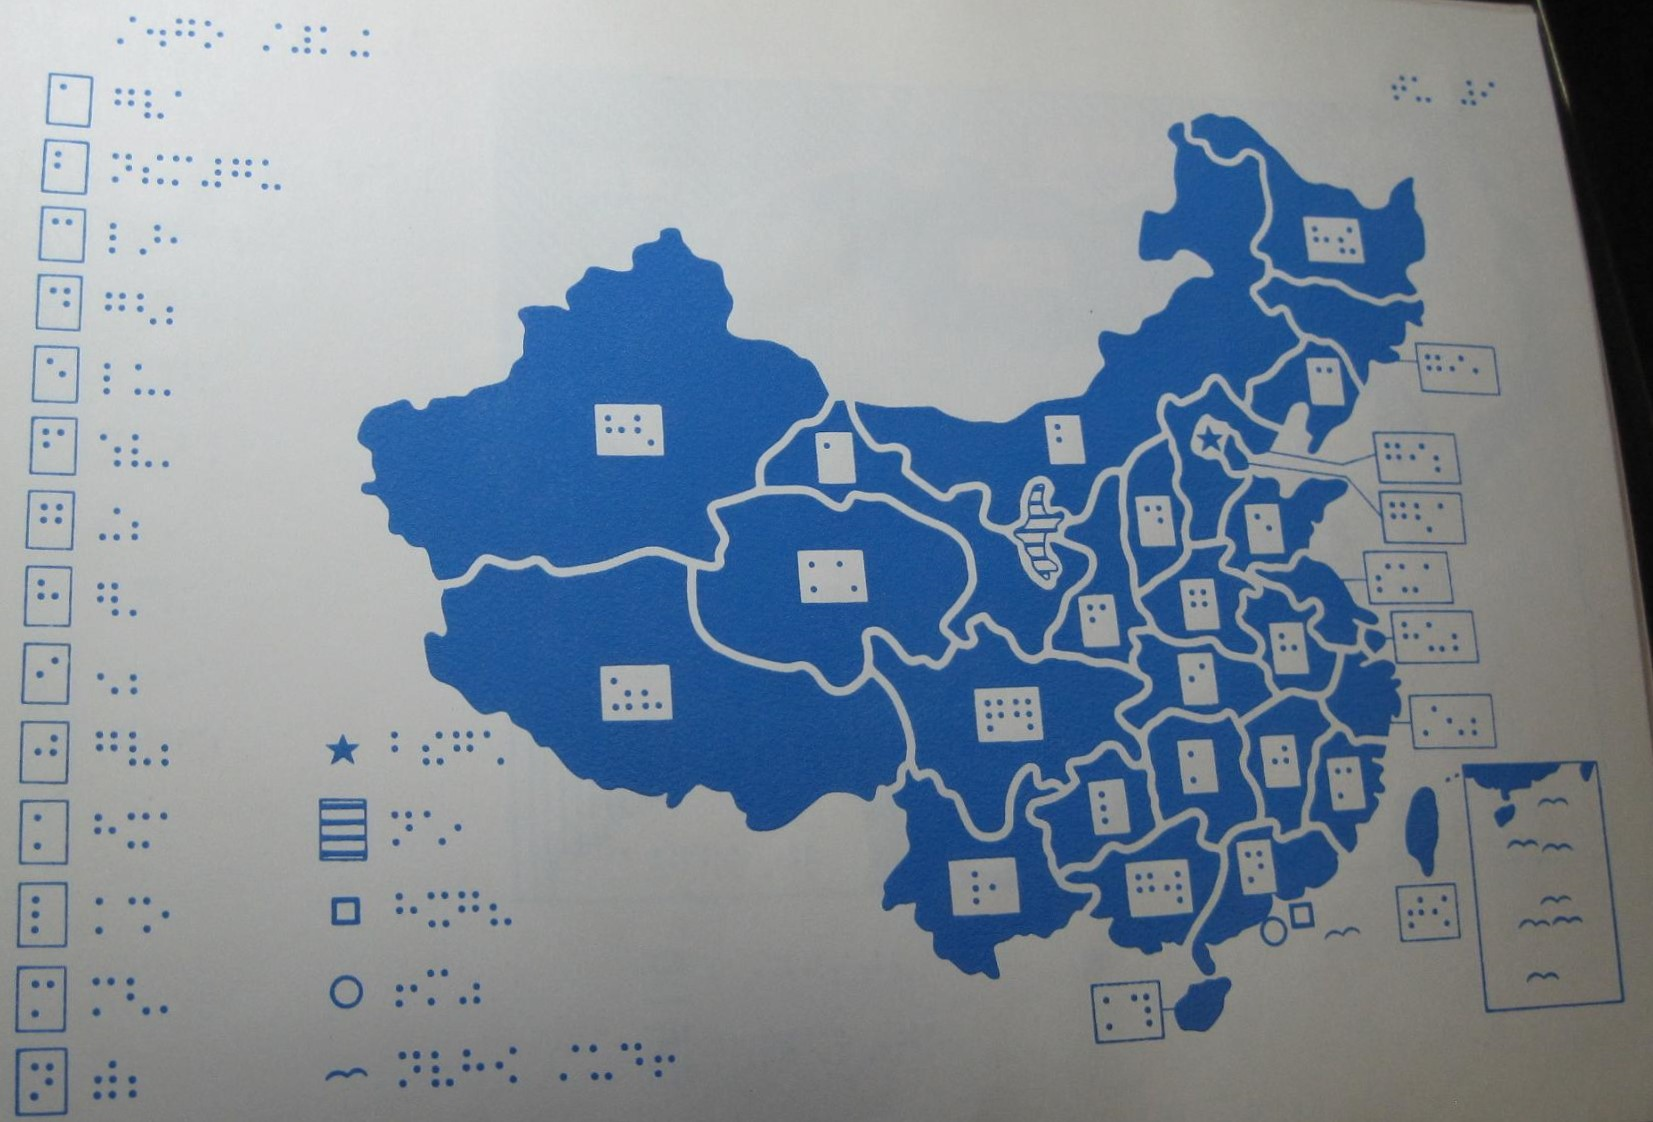Braille: (393, 1047, 425, 1094), (492, 1041, 523, 1088), (427, 1047, 457, 1094), (458, 1042, 485, 1093), (425, 888, 453, 932), (457, 964, 483, 1012), (125, 974, 153, 1019), (425, 965, 452, 1011), (586, 1043, 616, 1084), (91, 1059, 120, 1102), (28, 1062, 56, 1104), (488, 888, 517, 930), (393, 889, 423, 929), (420, 730, 448, 771), (159, 809, 187, 852), (126, 1059, 154, 1102), (450, 806, 477, 849), (91, 974, 116, 1021), (159, 975, 185, 1019), (481, 728, 507, 771), (126, 894, 154, 935), (387, 728, 415, 769), (619, 1038, 646, 1079), (652, 1037, 677, 1082), (556, 1039, 581, 1084), (422, 806, 448, 849), (393, 969, 420, 1012), (637, 670, 664, 713), (93, 728, 120, 768), (94, 895, 121, 935), (159, 894, 187, 934), (30, 894, 56, 935), (30, 979, 56, 1021), (34, 654, 63, 691), (91, 811, 119, 850), (38, 500, 65, 538), (129, 430, 154, 472), (456, 887, 481, 929), (33, 733, 59, 773), (96, 579, 121, 620), (126, 811, 152, 853), (389, 806, 415, 848), (609, 674, 634, 715), (96, 503, 121, 543), (128, 728, 153, 768), (33, 811, 58, 852), (451, 728, 476, 768), (1130, 991, 1155, 1031), (128, 503, 154, 541), (128, 581, 153, 620), (159, 729, 184, 768), (36, 575, 61, 614), (41, 425, 68, 461), (103, 359, 126, 399), (98, 430, 121, 470), (54, 147, 79, 184), (955, 868, 981, 905), (173, 86, 197, 125), (110, 148, 134, 187), (108, 220, 134, 255), (48, 284, 74, 319), (142, 86, 167, 123), (140, 150, 165, 187), (126, 661, 152, 697), (1011, 696, 1036, 733), (1097, 789, 1121, 826), (632, 412, 656, 450), (834, 558, 859, 594), (162, 431, 184, 470), (103, 289, 126, 326), (162, 364, 185, 401), (58, 80, 81, 116), (982, 697, 1006, 734), (1102, 994, 1126, 1031), (260, 157, 283, 194), (164, 289, 187, 327), (134, 362, 157, 399), (989, 868, 1012, 905), (604, 411, 626, 448), (96, 662, 120, 697), (50, 215, 74, 250), (1187, 749, 1211, 784), (135, 289, 157, 328), (1244, 848, 1265, 887), (145, 16, 169, 50), (113, 86, 136, 120), (200, 155, 224, 189), (45, 358, 69, 392), (1086, 604, 1110, 637), (1186, 660, 1207, 697), (1270, 743, 1291, 780), (1162, 868, 1183, 905), (203, 18, 225, 53), (260, 20, 283, 55), (289, 23, 312, 58), (318, 23, 341, 58), (349, 26, 372, 61), (230, 155, 253, 190), (139, 222, 162, 257), (169, 220, 192, 255), (823, 440, 845, 475), (806, 560, 829, 595), (1398, 562, 1420, 597), (1332, 766, 1355, 801), (1053, 422, 1077, 455), (1133, 872, 1157, 904), (172, 155, 194, 189), (1143, 503, 1166, 537), (1254, 510, 1275, 545), (1413, 500, 1434, 535), (1436, 501, 1458, 536), (1431, 892, 1451, 928), (175, 15, 197, 49), (1187, 586, 1208, 620), (1279, 630, 1300, 664), (1425, 621, 1446, 655), (1388, 498, 1408, 533), (1470, 705, 1491, 738), (1406, 894, 1425, 930), (116, 14, 136, 48), (1410, 75, 1433, 105), (1400, 619, 1421, 650), (1445, 706, 1466, 738), (1374, 561, 1393, 596), (1423, 561, 1441, 596), (1383, 441, 1403, 473), (1336, 225, 1357, 255), (1449, 622, 1470, 652), (1310, 224, 1330, 255), (1421, 704, 1439, 739), (1471, 354, 1493, 383), (1409, 442, 1428, 475), (1314, 364, 1334, 394), (1433, 445, 1451, 475), (1424, 352, 1443, 381), (1390, 73, 1408, 103), (1448, 352, 1466, 379), (1460, 76, 1476, 108), (1479, 79, 1496, 106)
